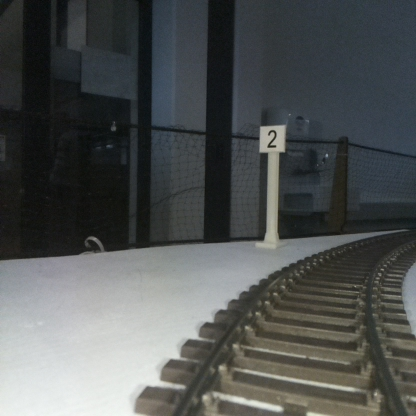white-info-2: (259, 125, 284, 244)
